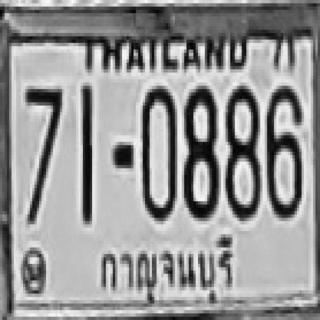N00: (140, 82, 175, 218)
N01: (80, 82, 91, 218)
N06: (265, 82, 302, 214)
N07: (23, 86, 60, 221)
N08: (182, 82, 217, 218), (223, 82, 258, 218)
P17: (98, 229, 240, 311)
